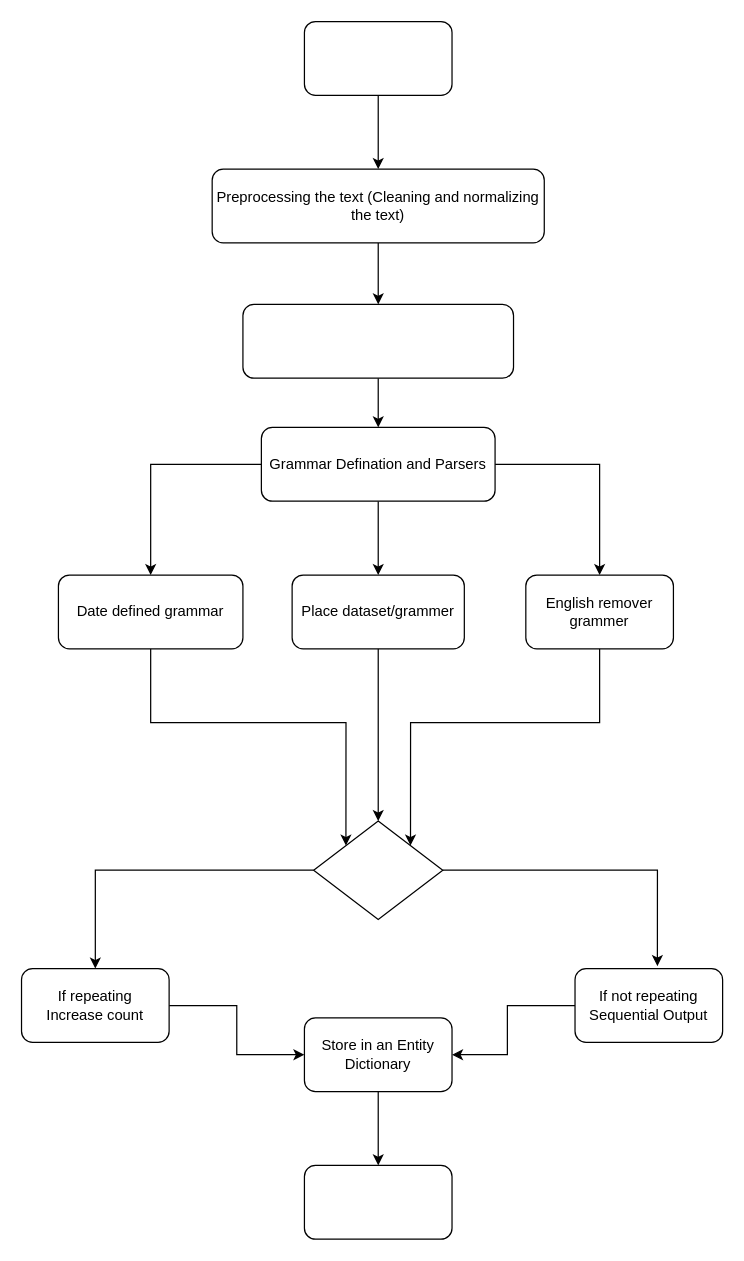
Some shapes in this 744 by 1261 pixel diagram are drawn without their labels. The centre of each missing label's shape, as x and y in pixels:
"Lexical Analysis (Dividing the text into tokens)" belongs at (x=378, y=340).
"Redundancy Check" belongs at (x=377, y=869).
"Save to File" belongs at (x=377, y=1201).
"Text file" belongs at (x=377, y=57).
